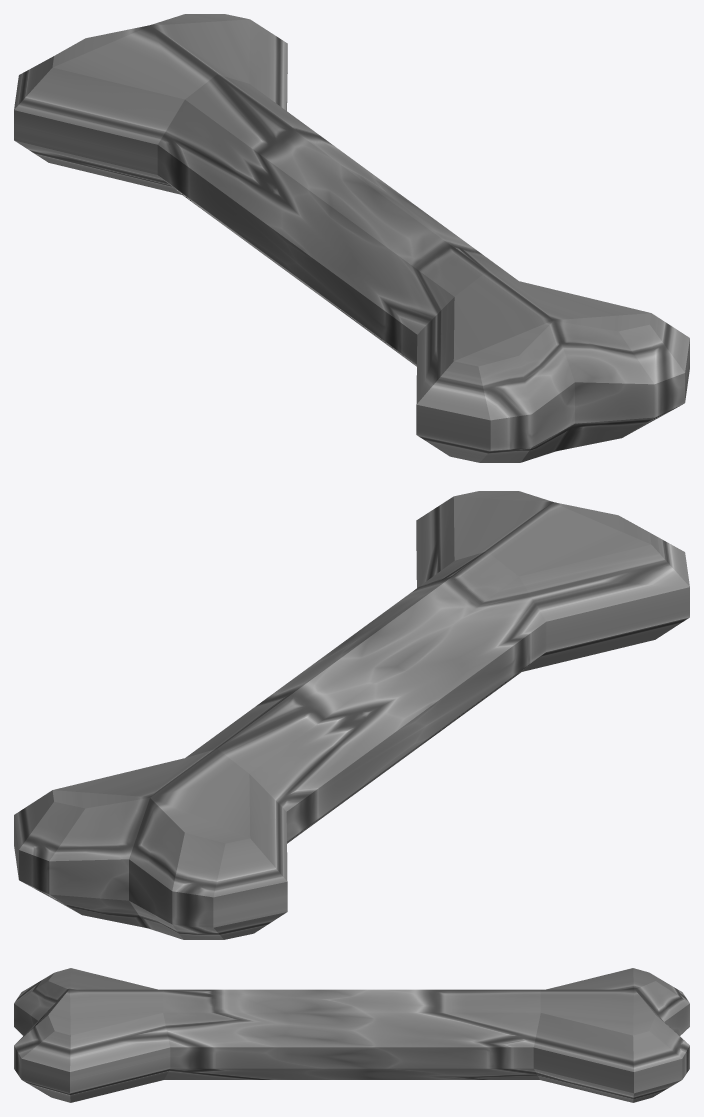
Rendered from Bone.fbx.
The picture shows the model from 3 angles, top to bottom: view 1: azimuth 30°, elevation 25°; view 2: azimuth 150°, elevation 25°; view 3: azimuth 270°, elevation 25°; orthographic projection. The views are drawn at different scales.
Visible parts, largest first — view 1: pCube13; view 2: pCube13; view 3: pCube13.
Part boxes in pixels (left/top/right/bottom): pCube13: left=14, top=14, right=689, bottom=462; pCube13: left=14, top=491, right=689, bottom=939; pCube13: left=14, top=968, right=689, bottom=1102.
Bounding box in the file's own units: 24.34 × 10.97 × 74.38.
